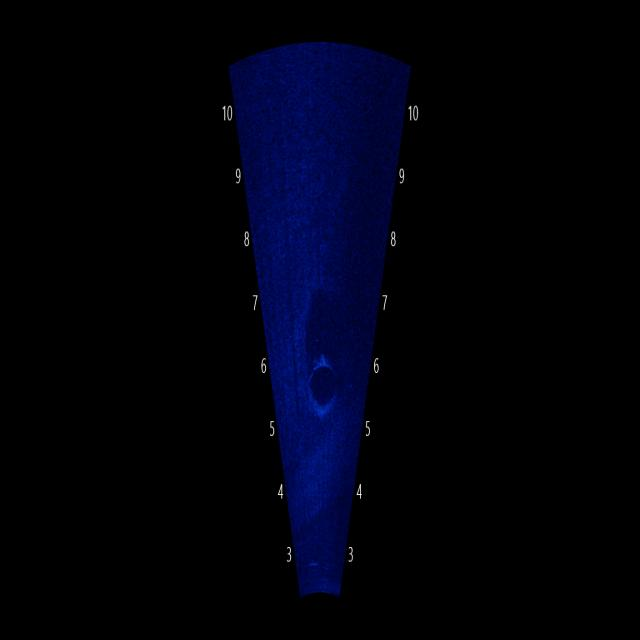circle: (291, 352, 354, 426)
